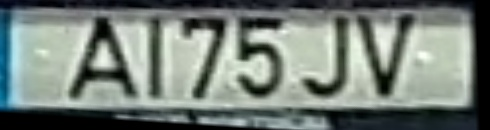5: (233, 16, 287, 103)
7: (180, 16, 231, 104)
A: (66, 15, 144, 104)
I: (146, 14, 166, 103)
J: (299, 16, 355, 103)
V: (355, 14, 419, 101)
